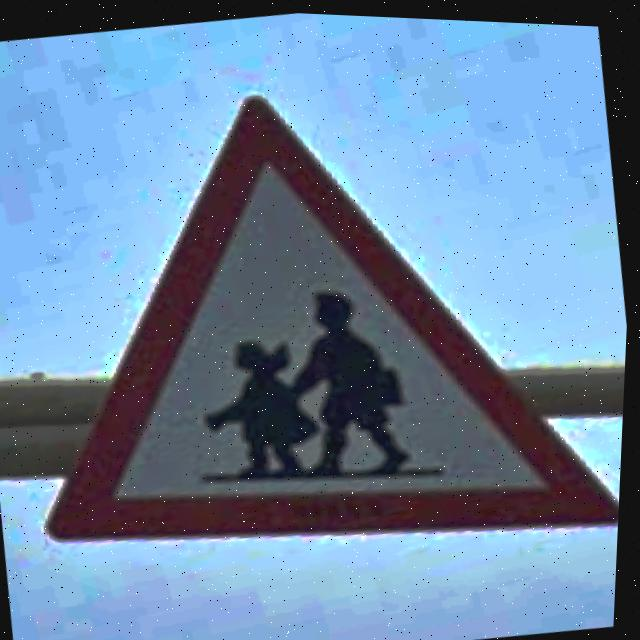childrencross: (51, 94, 623, 538)
